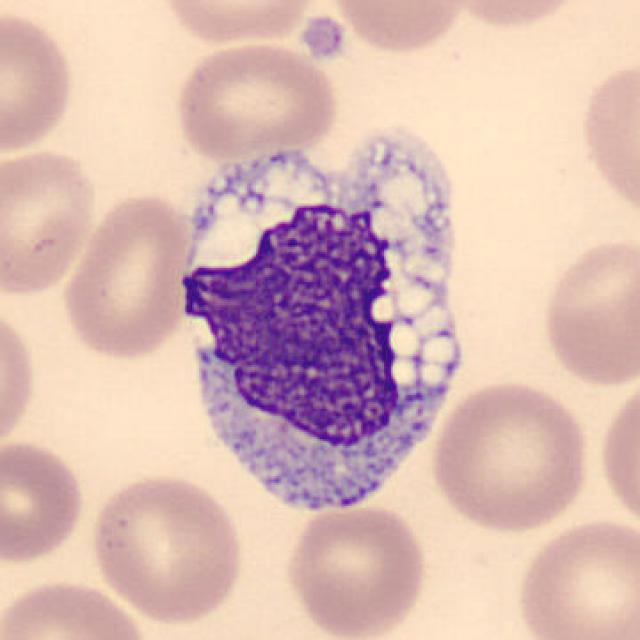Monocyte: (166, 155, 477, 527)
Platelets: (298, 14, 348, 62)
RBC: (427, 376, 596, 534), (87, 469, 247, 626), (57, 189, 197, 363), (171, 37, 343, 162), (279, 501, 432, 638), (537, 231, 638, 390), (510, 515, 638, 640), (0, 143, 100, 298), (0, 5, 78, 157), (0, 435, 89, 566), (574, 54, 640, 228), (0, 575, 153, 640), (323, 0, 471, 56), (155, 0, 325, 48), (594, 372, 640, 536), (0, 296, 39, 455), (441, 0, 592, 32)
